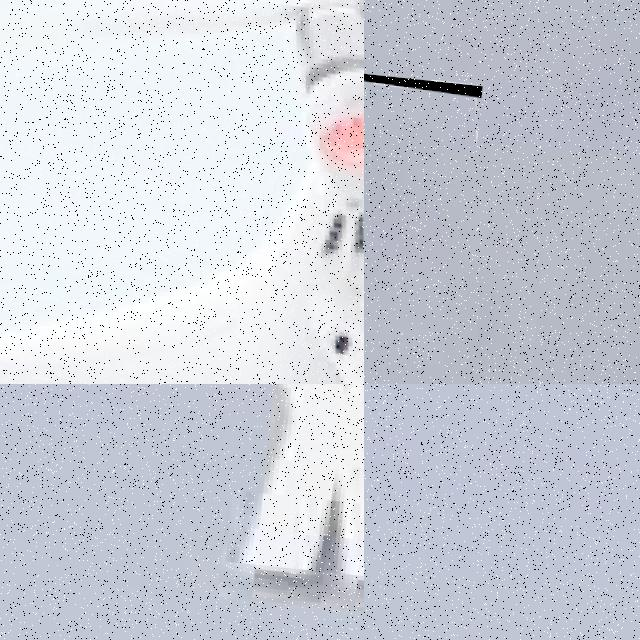drone: (0, 0, 364, 384), (364, 51, 482, 384)
